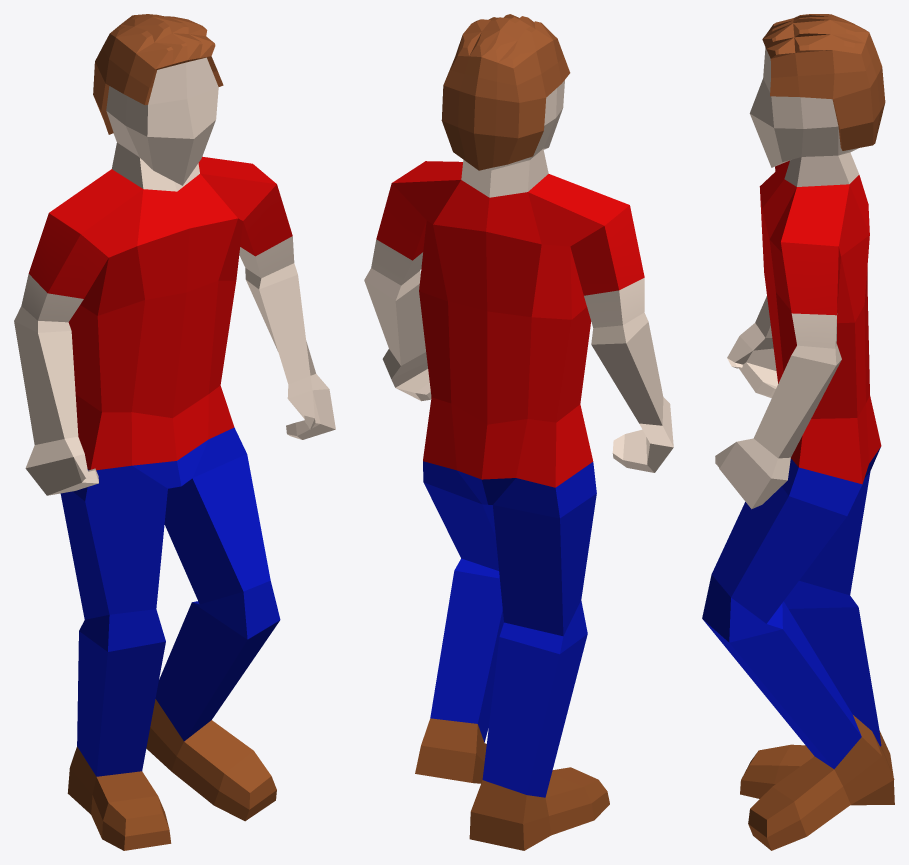
File: Human_walking_2.fbx
The picture shows the model from 3 angles, left to right: view 1: azimuth 30°, elevation 25°; view 2: azimuth 150°, elevation 25°; view 3: azimuth 270°, elevation 25°; orthographic projection.
Parts seen in each view (by area): view 1: Person; view 2: Person; view 3: Person.
Part boxes in pixels (x1,y1,x2,y2): Person: [14, 14, 335, 850]; Person: [364, 14, 673, 850]; Person: [702, 14, 894, 850].
Size of the model in its own units: 0.1245 by 0.3164 by 0.0698.
